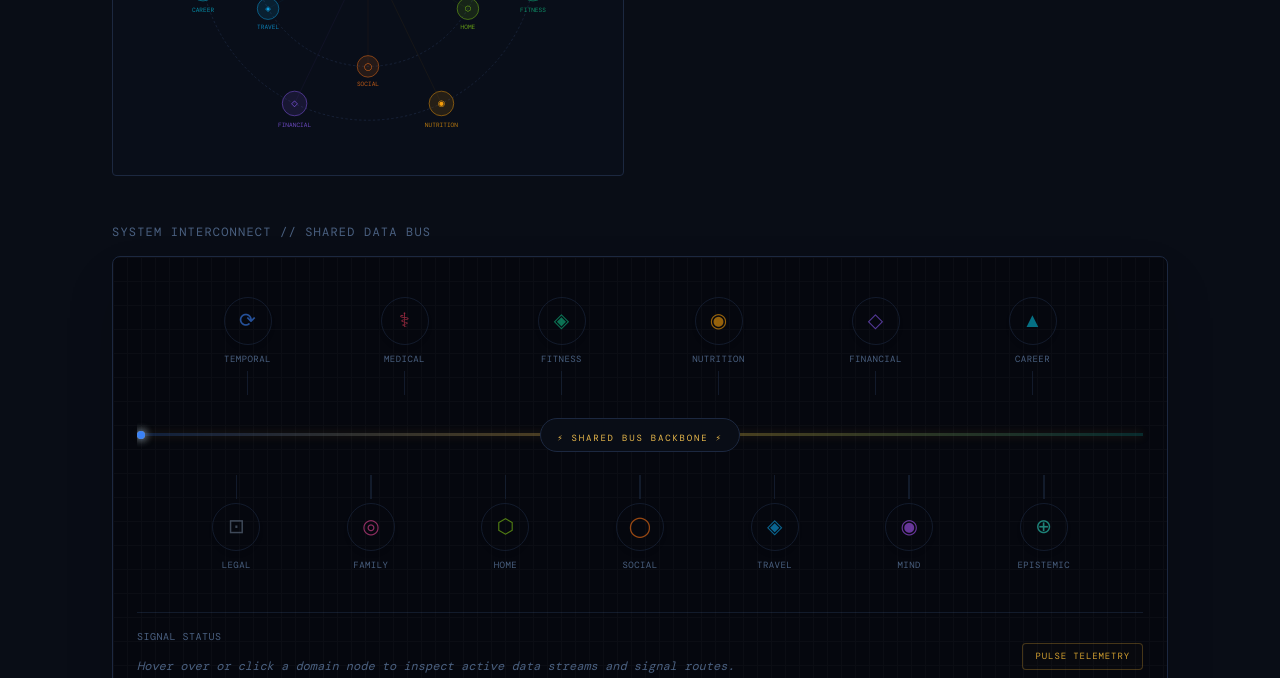
Scenario: InteractiveDashboard › updates telemetry message and highlights connection on data bus node click
(page scrolled)
# Click it to set active
Click the button with id "shared-bus-node-03" at (562, 321), box left=538, top=297, right=586, bottom=345
(page scrolled)
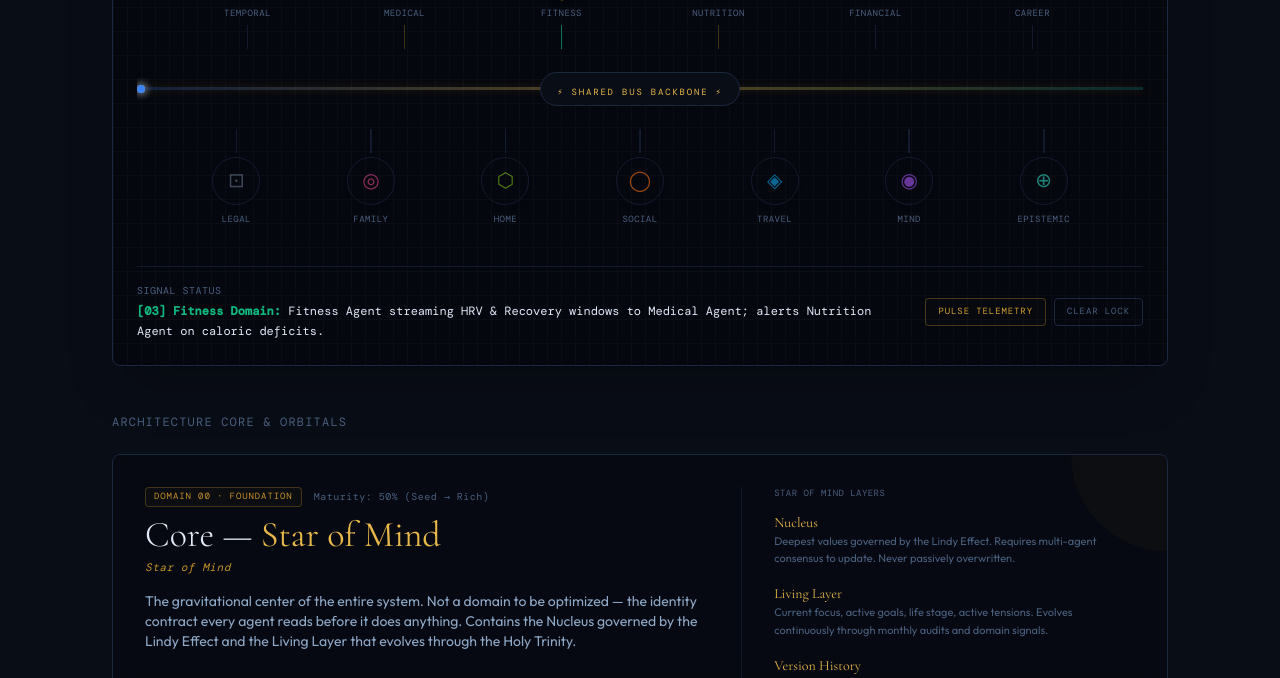
Expected: the text "Fitness Agent streaming HRV & Recovery windows" is shown, left=137, top=303, right=872, bottom=338
